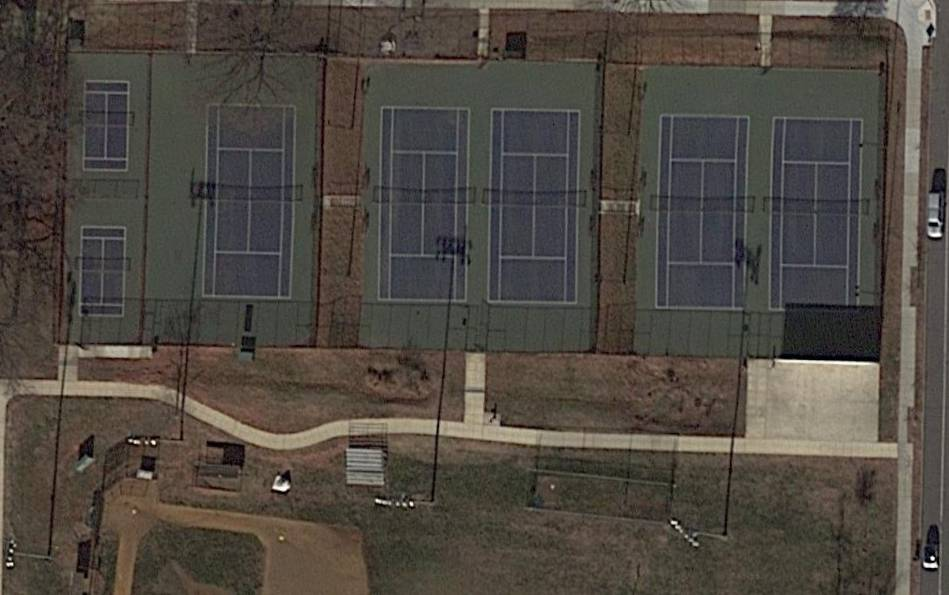small vehicle: (926, 189, 946, 243)
tennis court: (487, 110, 581, 305), (656, 116, 751, 308), (202, 104, 296, 298), (769, 118, 862, 314), (377, 108, 471, 301)
